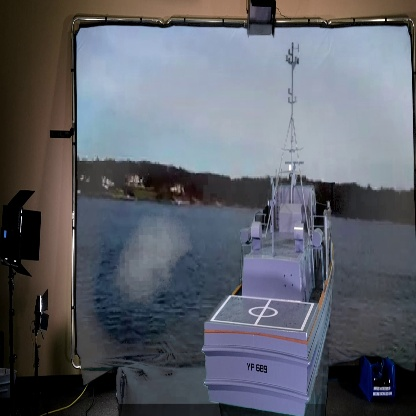YP689: (198, 43, 340, 416)
